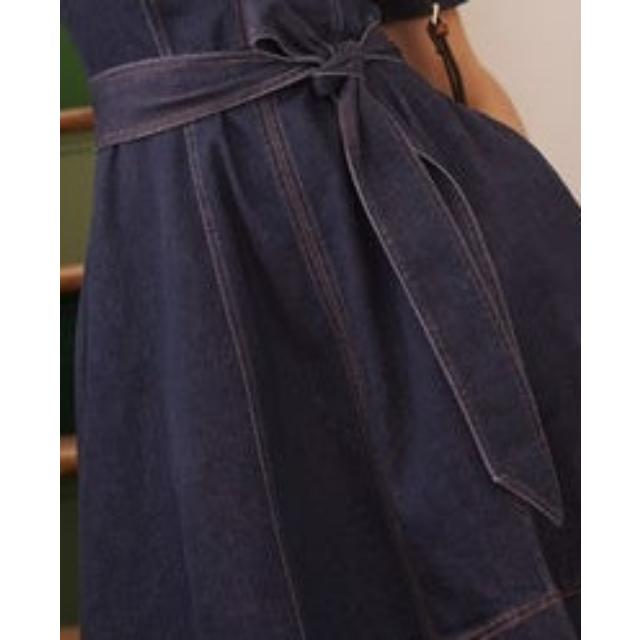denim: (80, 0, 394, 640)
